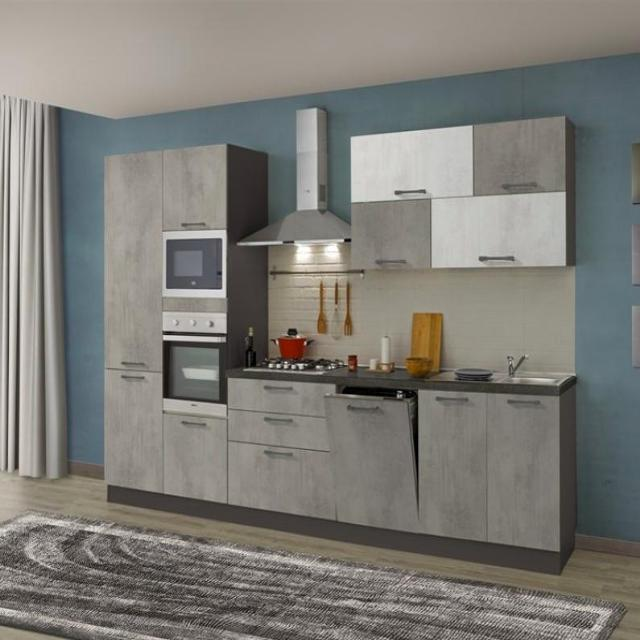dishwasher: (324, 382, 418, 544)
